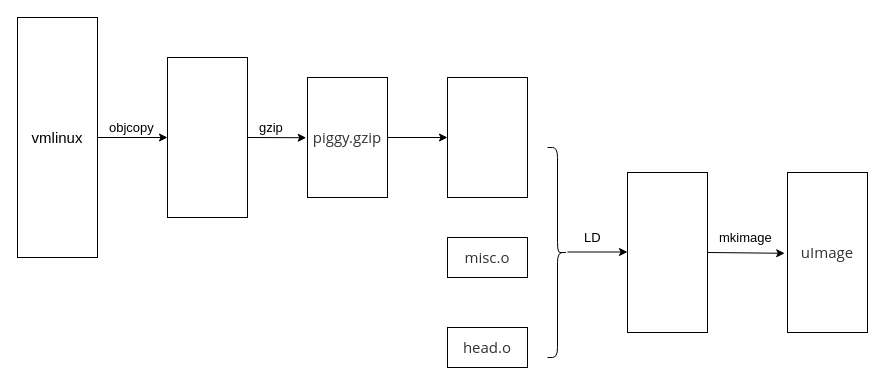
Image size: 885x385. Some labels were removed from this diagram. Each missing label, with the centre of its shape:
"Image" goes at point 207,137.
"piggy.gzip.o" goes at point 487,137.
"zImage" goes at point 667,252.
